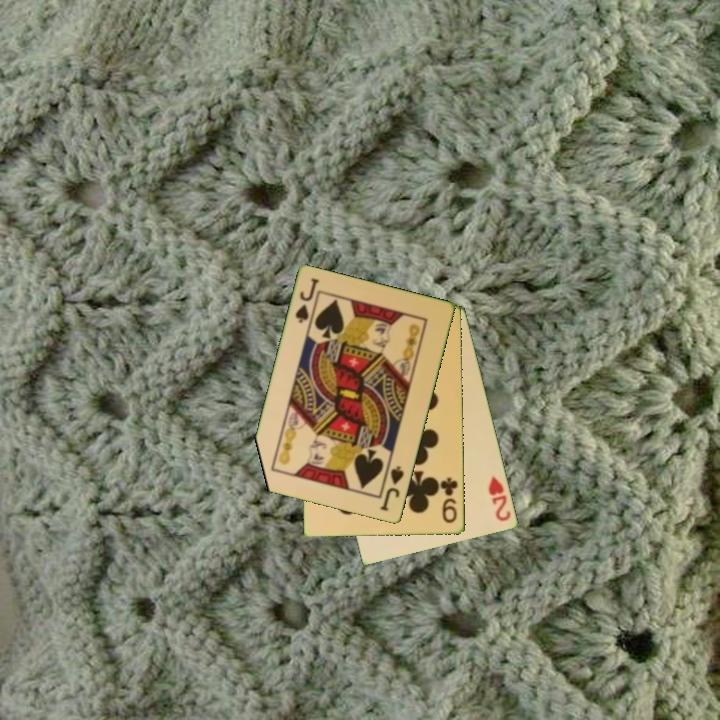2h: (485, 472, 514, 525)
9c: (438, 474, 461, 526)
Js: (377, 463, 407, 514), (292, 275, 322, 326)
